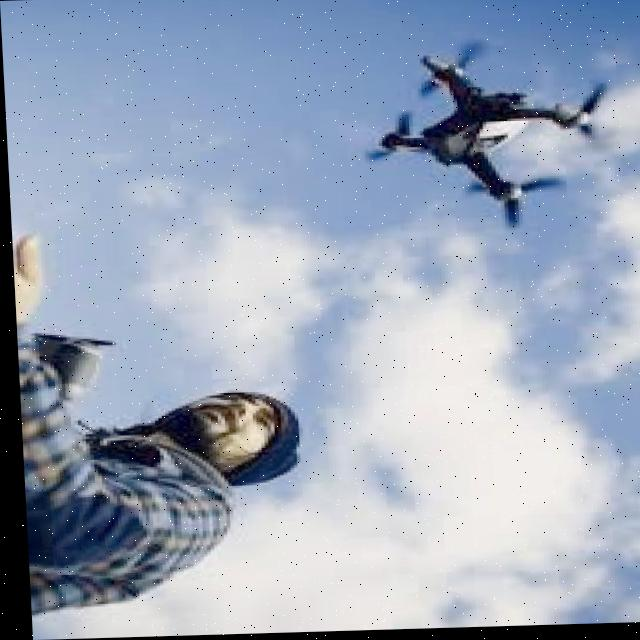drone: (359, 28, 607, 230)
